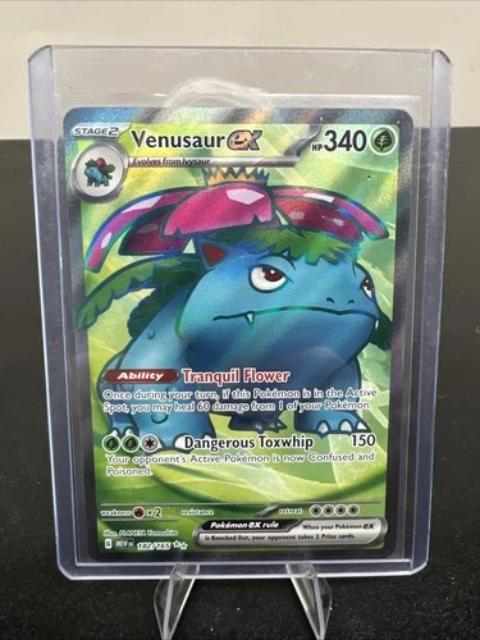Card: (58, 103, 418, 564)
Name: (126, 122, 268, 155)
